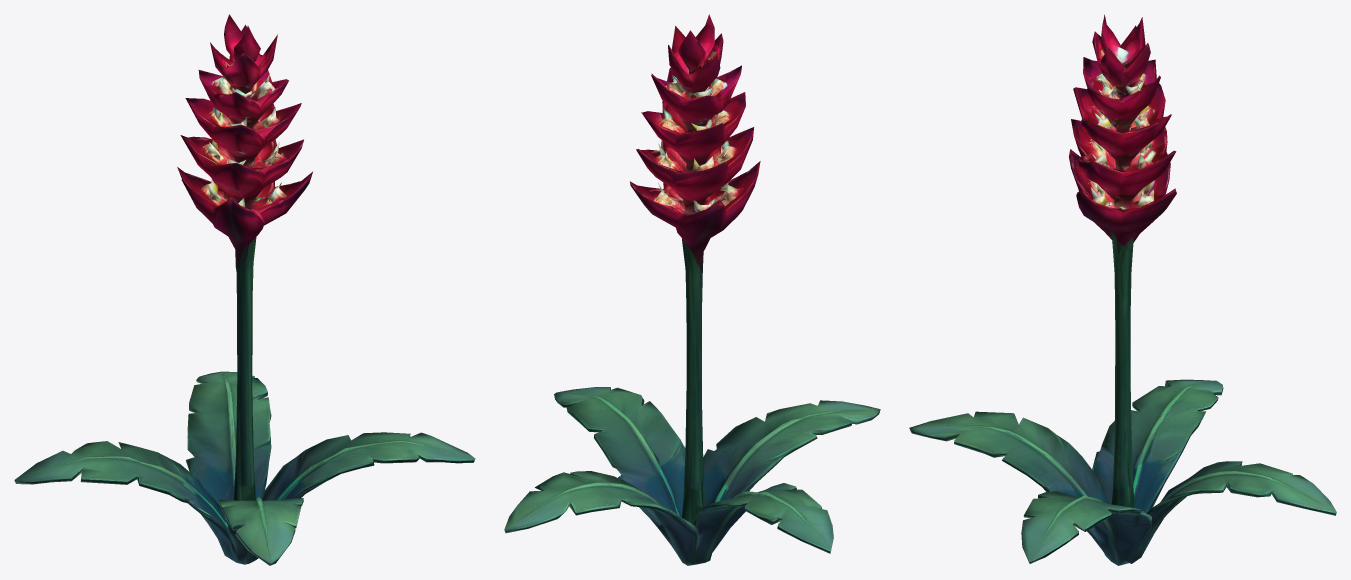
3 views of the same model, side by side, from view 1: azimuth 30°, elevation 25°; view 2: azimuth 150°, elevation 25°; view 3: azimuth 270°, elevation 25° (orthographic).
Visible parts, largest first — view 1: Mesh_0; view 2: Mesh_0; view 3: Mesh_0.
Part boxes in pixels (x1,y1,x2,y2): Mesh_0: (14,14,475,565); Mesh_0: (504,14,880,565); Mesh_0: (909,14,1336,565).
Bounding box in the file's own units: 1.35 × 1.9 × 1.35.
Materials: 1 (1 with a texture image).
